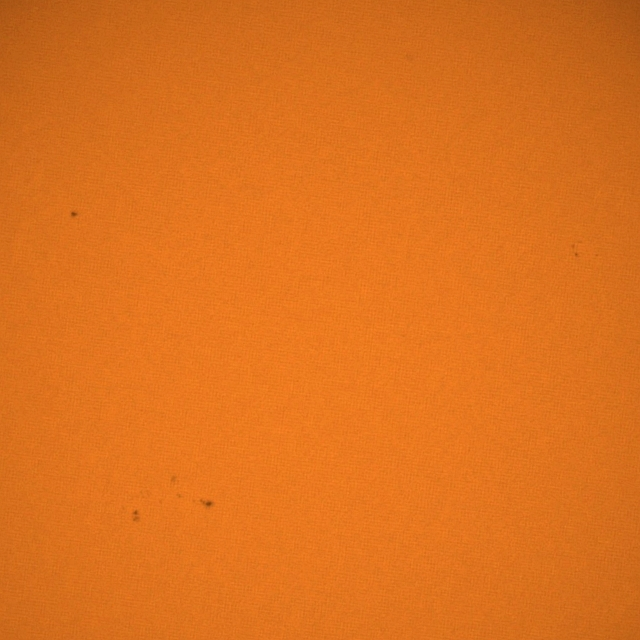sunspot: (194, 497, 214, 508), (571, 243, 582, 259), (131, 509, 140, 523), (70, 210, 78, 219), (175, 492, 182, 500)
